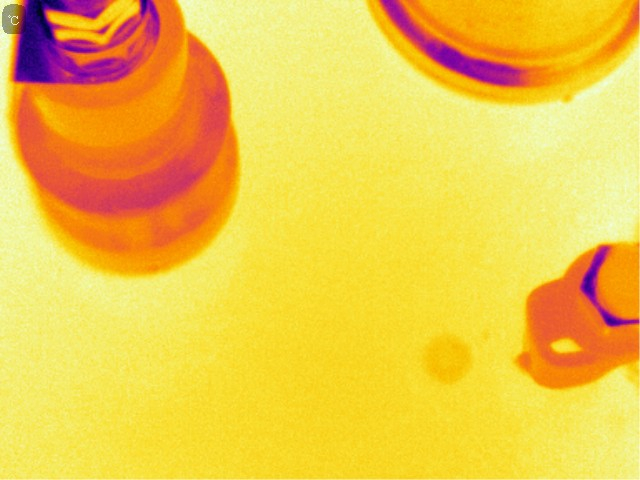Oil: (425, 329, 469, 383)
